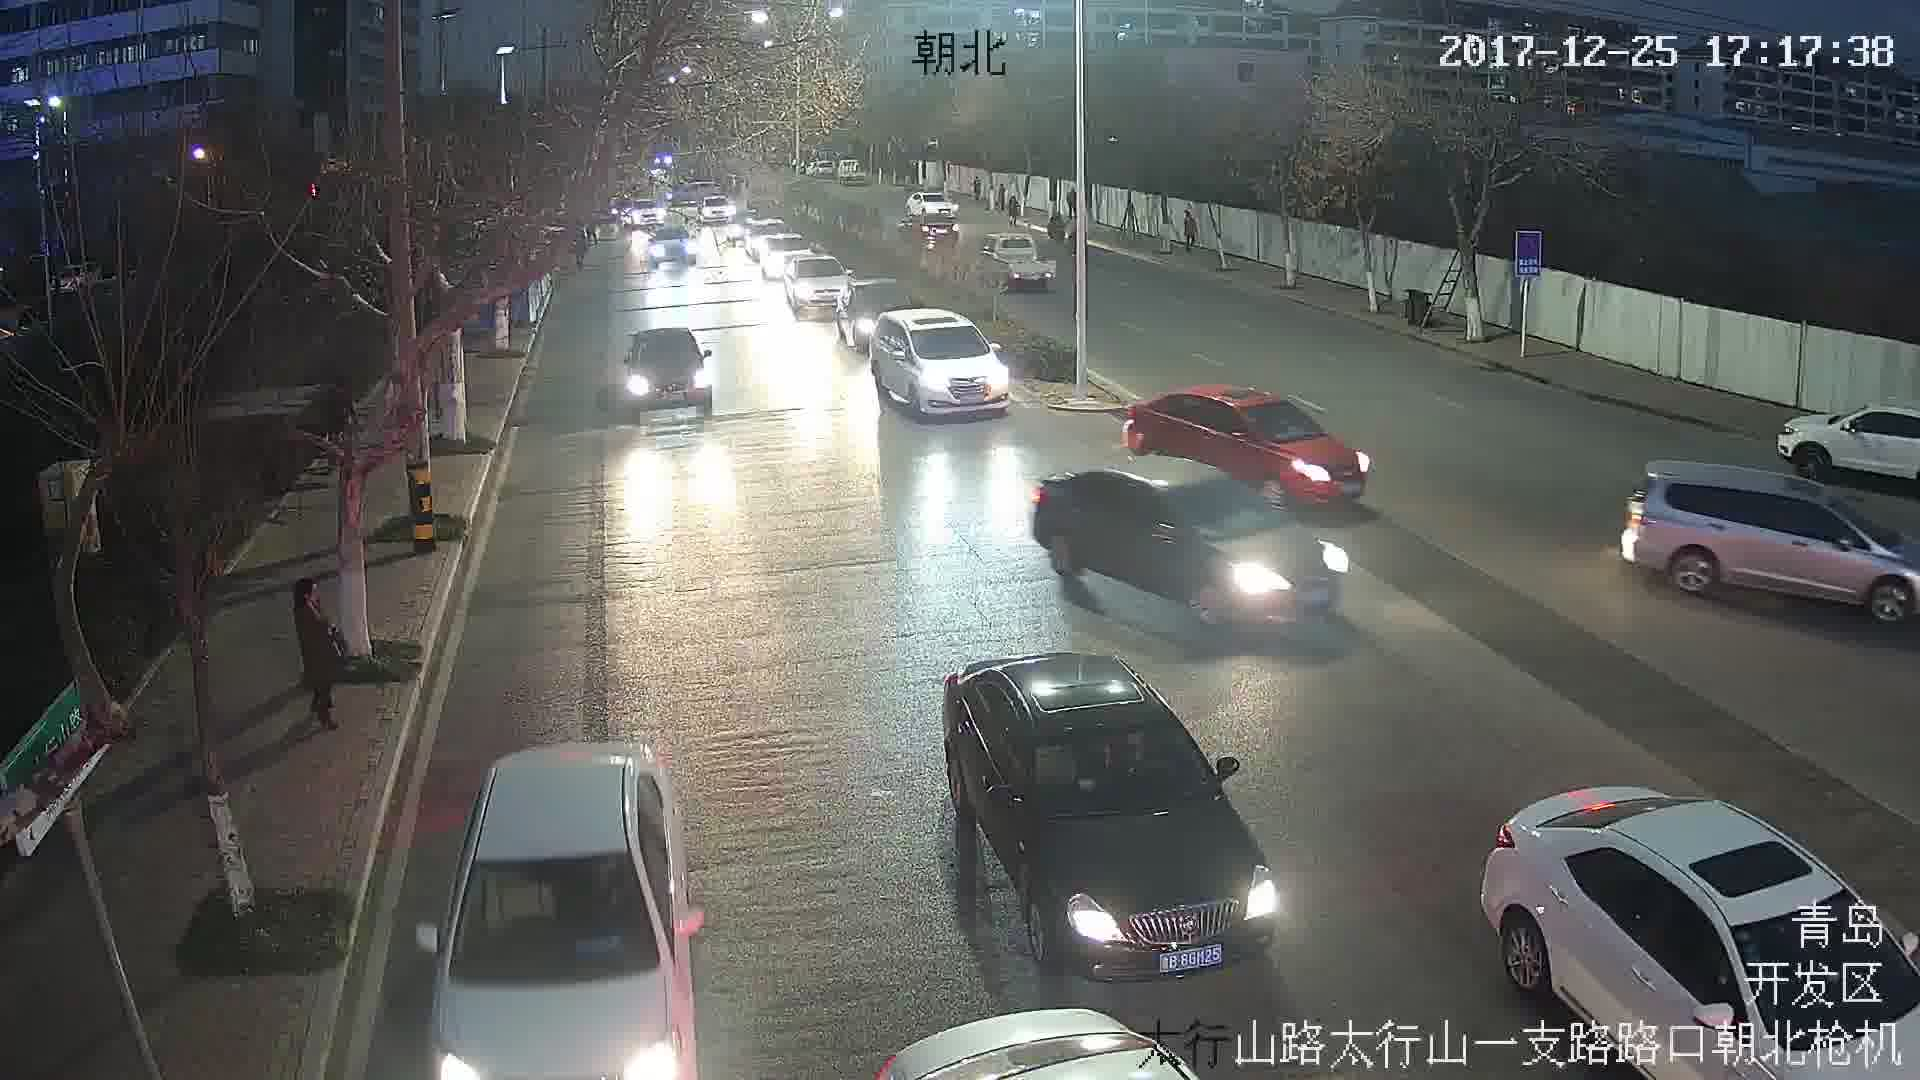car: (937, 650, 1275, 971), (1025, 460, 1346, 631), (1620, 456, 1916, 628), (1124, 377, 1370, 512), (870, 307, 1003, 413), (616, 328, 713, 417), (982, 232, 1055, 296), (789, 253, 846, 310), (643, 224, 693, 262), (902, 220, 962, 250)
person: (284, 580, 345, 731), (1180, 210, 1199, 250)
